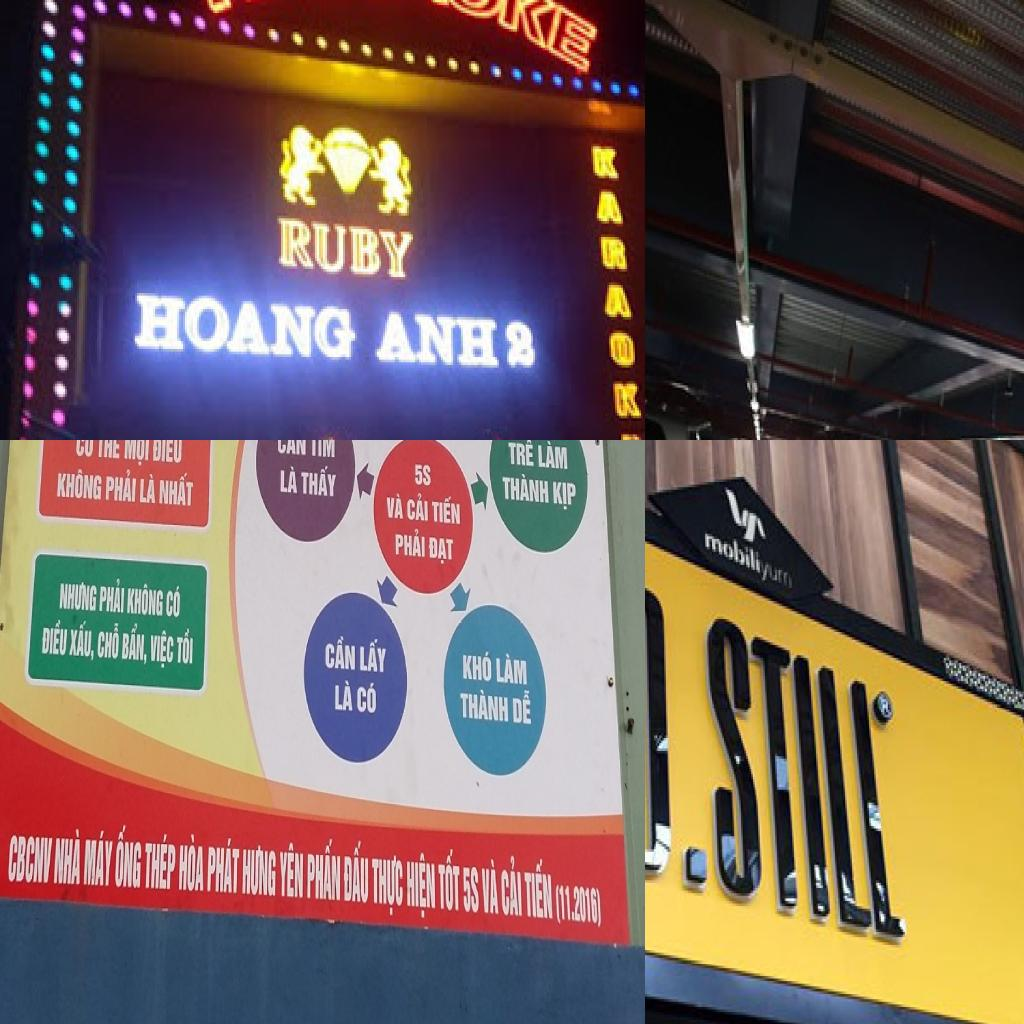text: (702, 611, 910, 945), (185, 0, 603, 90), (125, 290, 359, 368), (273, 210, 417, 282), (645, 569, 677, 885), (367, 312, 509, 373), (6, 830, 54, 888), (704, 531, 763, 578), (370, 851, 406, 922), (305, 839, 341, 906), (554, 882, 604, 929), (82, 822, 116, 889), (112, 817, 142, 890), (405, 849, 436, 919), (457, 686, 511, 725), (206, 837, 241, 896), (144, 832, 178, 891), (56, 463, 105, 503), (242, 843, 276, 900), (524, 856, 554, 919), (51, 826, 81, 888), (502, 469, 550, 507), (176, 830, 204, 894), (343, 840, 369, 906), (436, 847, 462, 913), (498, 854, 524, 920), (126, 578, 165, 621), (680, 841, 710, 896), (58, 576, 99, 615), (358, 634, 393, 679), (279, 840, 304, 901), (478, 855, 502, 918), (324, 630, 358, 673), (120, 620, 149, 670), (157, 473, 196, 509), (605, 330, 637, 373), (461, 647, 493, 690), (494, 652, 530, 690), (299, 463, 338, 498), (589, 146, 623, 186), (104, 466, 137, 506), (66, 620, 96, 664), (147, 627, 176, 672), (595, 189, 627, 229), (601, 285, 635, 322), (599, 234, 629, 274), (96, 618, 122, 664), (613, 384, 645, 421), (41, 616, 69, 658), (395, 526, 426, 563), (98, 576, 126, 616), (537, 440, 570, 471), (175, 623, 195, 672), (550, 480, 578, 515), (504, 440, 535, 471), (432, 494, 462, 526), (356, 678, 380, 718), (428, 531, 455, 566), (151, 440, 185, 466), (463, 864, 480, 916), (333, 678, 353, 718), (123, 440, 150, 469), (406, 491, 429, 525), (164, 580, 183, 620), (278, 463, 300, 497), (138, 473, 158, 507), (385, 490, 405, 521), (96, 440, 124, 462), (309, 440, 337, 460), (414, 461, 432, 492), (276, 440, 306, 458), (75, 440, 95, 459)
